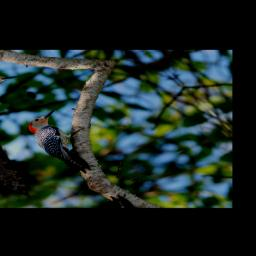Woodpecker: (16, 107, 119, 178)
